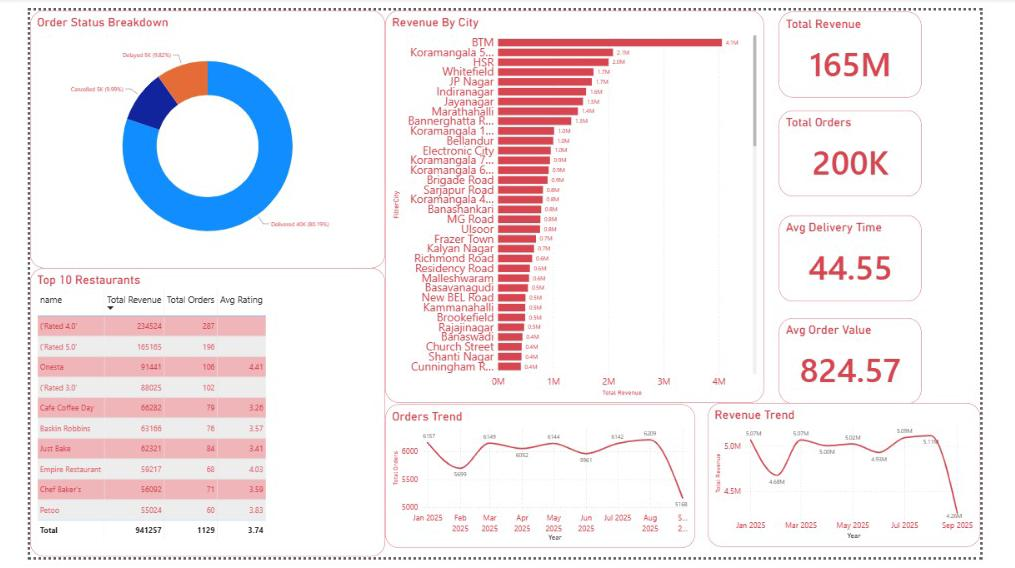

What the dashboard file says about the page in this screenshot:
{"tool":"powerbi","page":{"name":"Executive Overview","canvas":[2000,1150],"ordinal":0},"visuals":[{"type":"cardVisual","title":"Total Revenue","fields":{"Data":["Orders.Total Revenue"]},"box":[1575.4,1.6,300,181],"z":0},{"type":"cardVisual","title":"Total Orders","fields":{"Data":["Orders.Total Orders"]},"box":[1575.4,211.1,300,181],"z":1000},{"type":"cardVisual","title":"Avg Order Value","fields":{"Data":["Orders.Avg Order Value"]},"box":[1575.4,646.8,300,181],"z":2000},{"type":"cardVisual","title":"Avg Delivery Time","fields":{"Data":["Orders.Avg Delivery Time"]},"box":[1575.4,432.5,300,181],"z":3000},{"type":"lineChart","title":"Revenue Trend","fields":{"Y":["Orders.Total Revenue"],"Category":["DateTable.Date.Variation.Date Hierarchy.Year","DateTable.Date.Variation.Date Hierarchy.Month"]},"box":[1426.2,826.2,573.8,302.4],"z":4000},{"type":"lineChart","title":"Orders Trend","fields":{"Y":["Orders.Total Orders"],"Category":["DateTable.Date.Variation.Date Hierarchy.Year","DateTable.Date.Variation.Date Hierarchy.Month"]},"box":[747.6,828.6,652.4,302.4],"z":5000},{"type":"barChart","title":"Revenue By City","fields":{"Category":["Customers.FilterCity"],"Y":["Orders.Total Revenue"]},"box":[747.6,0,797.6,826.2],"z":6000},{"type":"donutChart","title":"Order Status Breakdown","fields":{"Category":["Orders.OrderStatus"],"Y":["Orders.Total Orders"]},"box":[0,0,747.6,542.9],"z":7000},{"type":"tableEx","title":"Top 10 Restaurants","fields":{"Values":["Restaurants.name","Orders.Total Revenue","Orders.Total Orders","Orders.Avg Rating"]},"box":[0,542.9,747.6,607.1],"z":8000}]}

Visuals, with their boxes in screenshot pixels (x1, y1, x2, y2), scaled from the page's 2000x1150 canvas onto the 1015x568 screenshot:
"Total Revenue" cardVisual: 800,1,952,90
"Total Orders" cardVisual: 800,104,952,194
"Avg Order Value" cardVisual: 800,319,952,409
"Avg Delivery Time" cardVisual: 800,214,952,303
"Revenue Trend" lineChart: 724,408,1014,557
"Orders Trend" lineChart: 379,409,710,559
"Revenue By City" barChart: 379,0,784,408
"Order Status Breakdown" donutChart: 0,0,379,268
"Top 10 Restaurants" tableEx: 0,268,379,567
